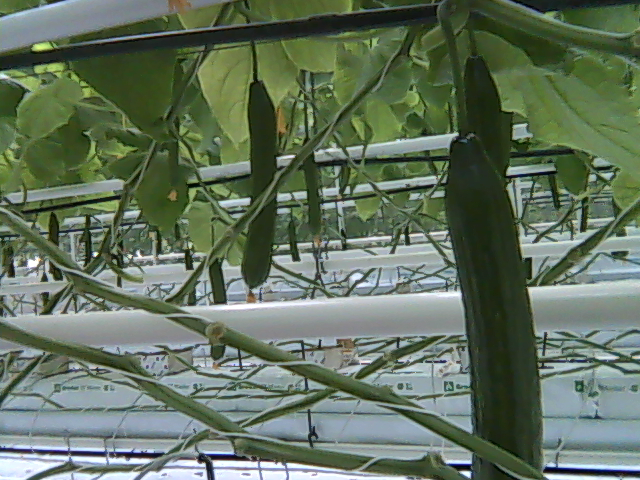concombre: (442, 123, 553, 480)
